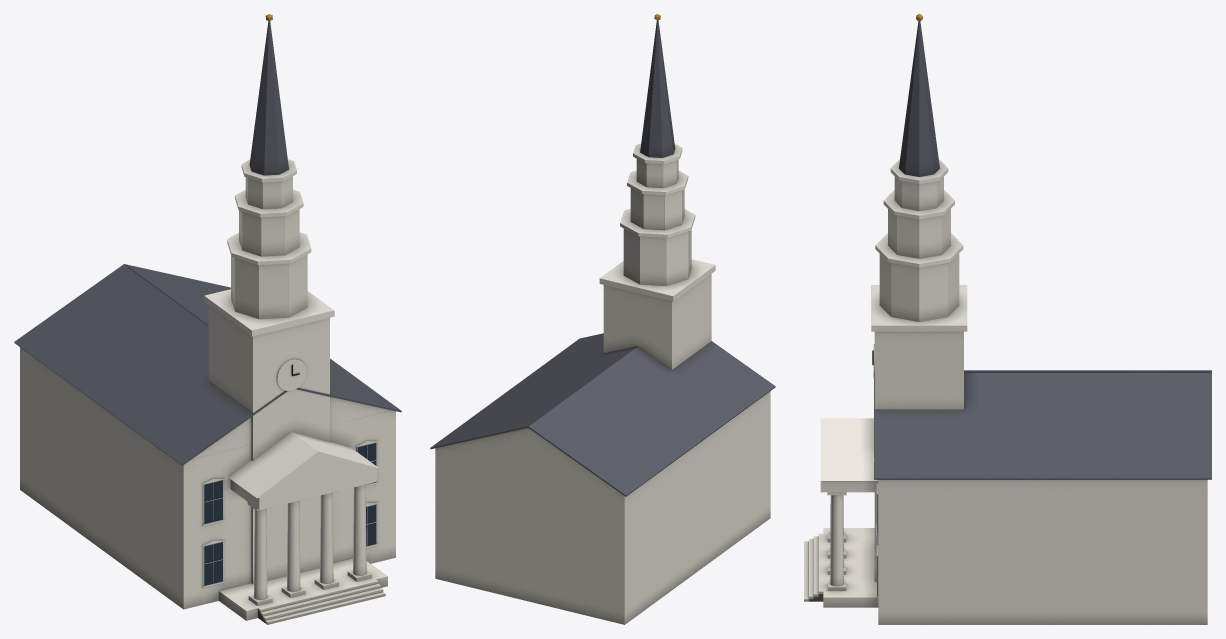
The model's file is san_miguel.glb.
3 renders of one model, left to right at view 1: azimuth 30°, elevation 25°; view 2: azimuth 150°, elevation 25°; view 3: azimuth 270°, elevation 25°, orthographic. The views are drawn at different scales.
Parts seen in each view (by area): view 1: san_miguel; view 2: san_miguel; view 3: san_miguel.
Boxes of the visible parts, x1=… form: san_miguel: x1=14, y1=14, x2=401, y2=624; san_miguel: x1=430, y1=14, x2=775, y2=624; san_miguel: x1=804, y1=14, x2=1211, y2=624.
Bounding box in the file's own units: 18.65 × 44.9 × 29.7.
Materials: 1 (1 with a texture image).
